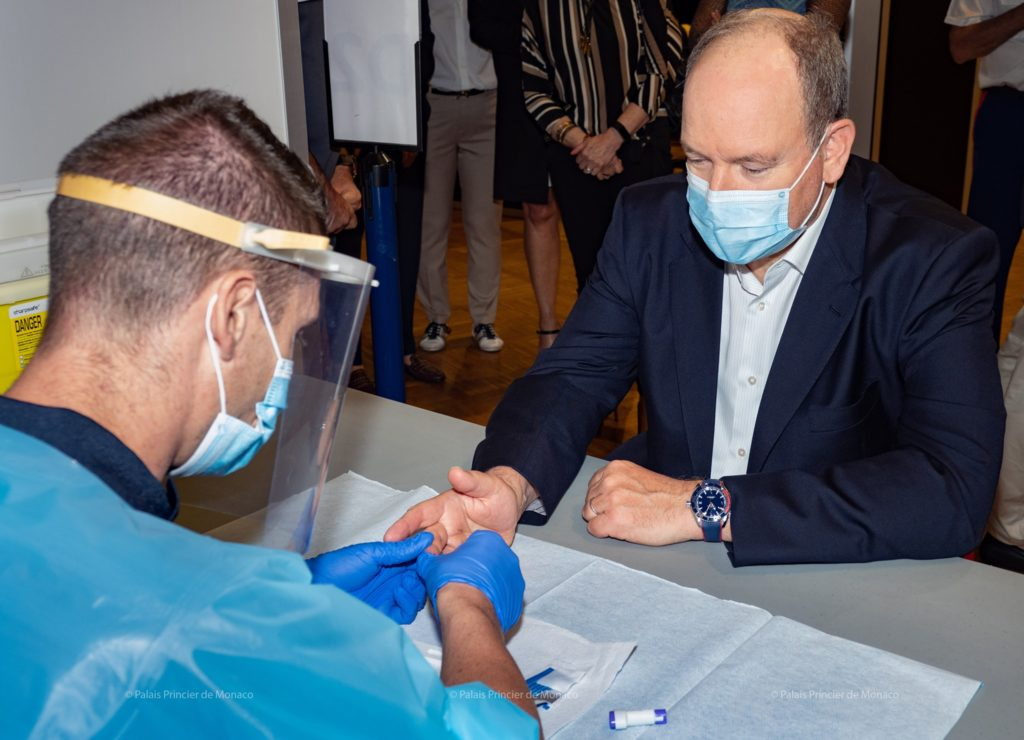with_mask: (170, 255, 305, 473), (686, 81, 810, 227)
